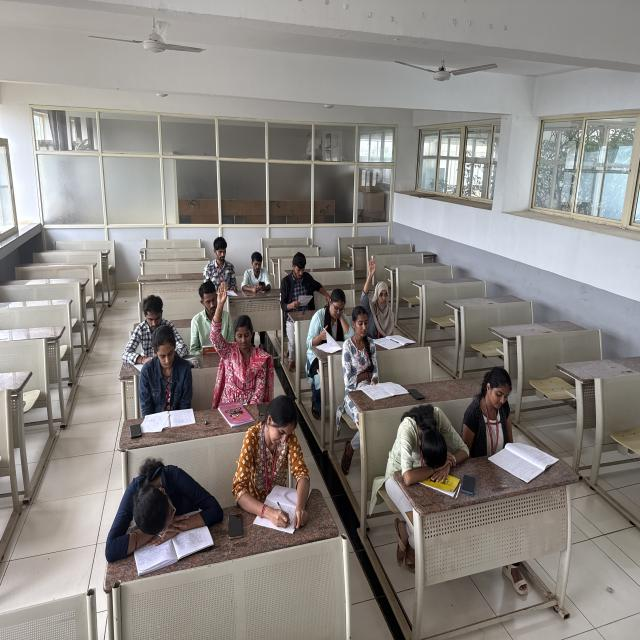Hand Rising: (212, 278, 276, 394), (360, 256, 399, 332)
Reading: (459, 368, 552, 473), (137, 324, 200, 424), (280, 250, 324, 310)
Sleeping: (108, 456, 221, 536), (386, 399, 470, 470)
Using Phone: (242, 250, 275, 296)
Writing: (232, 406, 317, 537)
